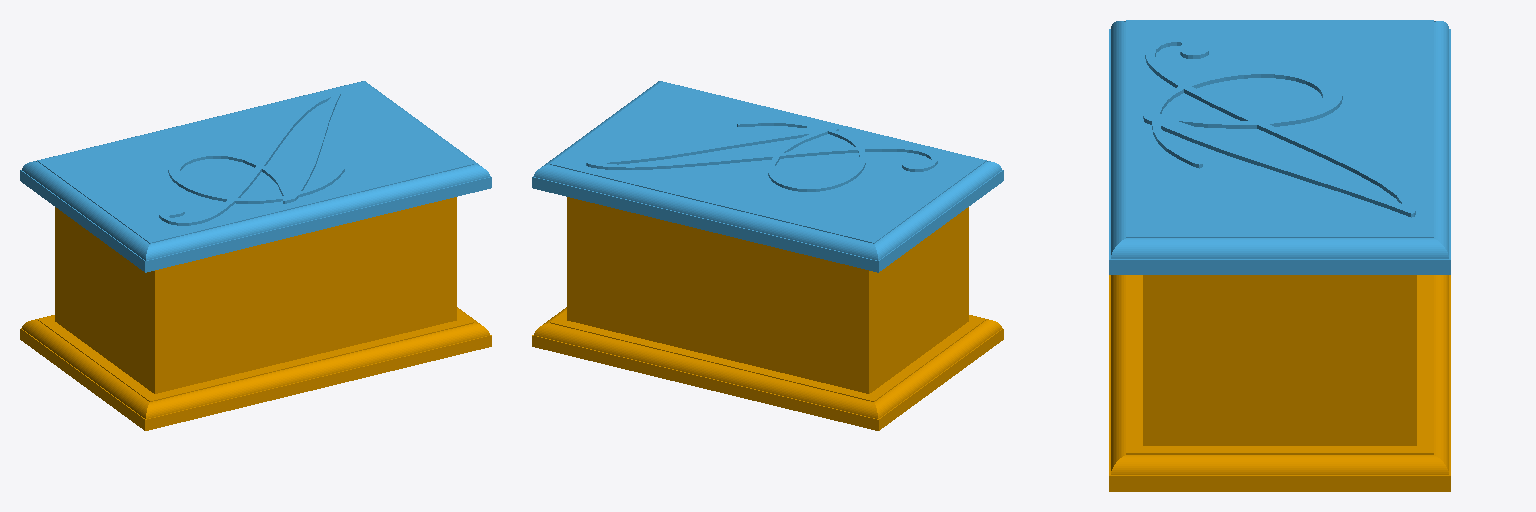
URDF robot description (jewelry_box):
<?xml version='1.0' encoding='utf-8'?>
<robot name="jewelry_box">
  <link name="link_1_base">
    <inertial>
      <origin xyz="0 -5e-09 -0.0121933" rpy="0 0 0" />
      <mass value="1" />
      <inertia ixx="0.00269201" ixy="6.17005e-20" ixz="-0" iyy="0.00565528" iyz="3.28393e-21" izz="0.00637576" />
    </inertial>
    <visual>
      <origin xyz="-0.000000 -0.000000 -0.000000" rpy="0 0 0" />
      <geometry>
        <mesh filename="objs/1_base__material_0_24.obj" />
      </geometry>
    </visual>
    <visual>
      <origin xyz="-0.000000 -0.000000 -0.000000" rpy="0 0 0" />
      <geometry>
        <mesh filename="objs/1_base__material_2_24.obj" />
      </geometry>
    </visual>
    <collision>
      <origin xyz="0 0 -0.0557" rpy="0 0 0" />
      <geometry>
        <box size="0.25 0.1562 0.0156" />
      </geometry>
    </collision>
    <collision>
      <origin xyz="-0.1172 0 -0.001" rpy="0 0 0" />
      <geometry>
        <box size="0.0156 0.1562 0.0938" />
      </geometry>
    </collision>
    <collision>
      <origin xyz="0.1172 0 -0.001" rpy="0 0 0" />
      <geometry>
        <box size="0.0156 0.1562 0.0938" />
      </geometry>
    </collision>
    <collision>
      <origin xyz="0 -0.0703 -0.001" rpy="0 0 0" />
      <geometry>
        <box size="0.2188 0.0156 0.0938" />
      </geometry>
    </collision>
    <collision>
      <origin xyz="0 0.0703 -0.001" rpy="0 0 0" />
      <geometry>
        <box size="0.2188 0.0156 0.0938" />
      </geometry>
    </collision>
  </link>
  <link name="link_2_lid">
    <inertial>
      <origin xyz="0.00253223 -0.0610387 0.00832356" rpy="0 0 0" />
      <mass value="0.25" />
      <inertia ixx="0.000488017" ixy="-6.59367e-06" ixz="-1.01213e-07" iyy="0.00125298" iyz="2.20418e-07" izz="0.00172906" />
    </inertial>
    <visual>
      <origin xyz="0.002483 -0.060938 -0.045898" rpy="0 0 0" />
      <geometry>
        <mesh filename="objs/2_lid__material_0_24.obj" />
      </geometry>
    </visual>
    <collision>
      <origin xyz="0.00248282 -0.0609383 0.00880156" rpy="0 0 0" />
      <geometry>
        <box size="0.25 0.1562 0.0176" />
      </geometry>
    </collision>
  </link>
  <joint name="joint_2_to_1" type="revolute">
    <parent link="link_1_base" />
    <child link="link_2_lid" />
    <origin xyz="-0.0024828243021693046 0.060938332384584 0.04589843568728184" rpy="0 0 0" />
    <axis xyz="-1.0 0.0 0.0" />
    <limit lower="0.0" upper="1.5707963267948966" effort="20" velocity="5.0" />
    <dynamics damping="0.1" friction="0.2" />
  </joint>
</robot>

--- What the picture shows (computed from the rendered views, not written in the file) ---
Views: 3 orthographic renders of the robot side by side, from view 1: azimuth 30°, elevation 25°; view 2: azimuth 150°, elevation 25°; view 3: azimuth 270°, elevation 25°.
Model jewelry_box with 2 links and 1 joints (1 revolute), rooted at link_1_base, posed all joints at 0.
Visible links, largest first — view 1: link_1_base, link_2_lid; view 2: link_1_base, link_2_lid; view 3: link_2_lid, link_1_base.
Link boxes in pixels (x1,y1,x2,y2): link_1_base: (20, 197, 491, 430); link_2_lid: (20, 81, 491, 272); link_1_base: (532, 197, 1003, 430); link_2_lid: (532, 81, 1003, 272); link_2_lid: (1109, 20, 1450, 274); link_1_base: (1109, 275, 1450, 491).
Bounding box of the posed robot: 0.25 × 0.1563 × 0.127 m (x, y, z).
Meshes: 3 distinct files referenced, 3 mesh visuals loaded (3 OBJ).
